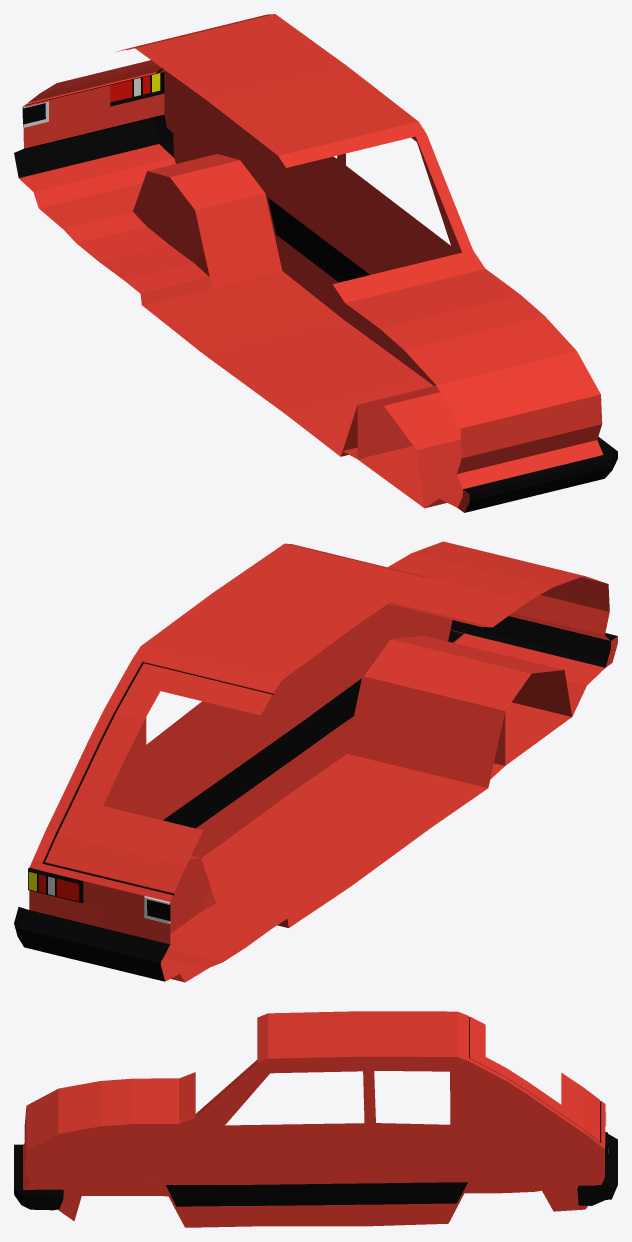
The model's file is mueve el toto.glb.
The picture shows the model from 3 angles, top to bottom: view 1: azimuth 30°, elevation 25°; view 2: azimuth 150°, elevation 25°; view 3: azimuth 270°, elevation 25°; orthographic projection. The views are drawn at different scales.
Visible parts, largest first — view 1: auto armazon, guarda barro, costado, luces traseras; view 2: auto armazon, guarda barro, costado, luces traseras, patente; view 3: auto armazon, costado, guarda barro.
Part boxes in pixels (box(x1,y1,x2,y2)): auto armazon: box(19, 14, 603, 512); guarda barro: box(14, 114, 617, 512); costado: box(268, 198, 369, 282); luces traseras: box(110, 72, 164, 106); auto armazon: box(29, 541, 617, 982); guarda barro: box(14, 616, 617, 981); costado: box(163, 678, 361, 828); luces traseras: box(28, 867, 83, 903); patente: box(144, 896, 170, 923); auto armazon: box(23, 1011, 605, 1227); costado: box(166, 1182, 467, 1206); guarda barro: box(14, 1134, 617, 1210).
Size of the model in its own units: 0.9744 by 1.55 by 4.96.
